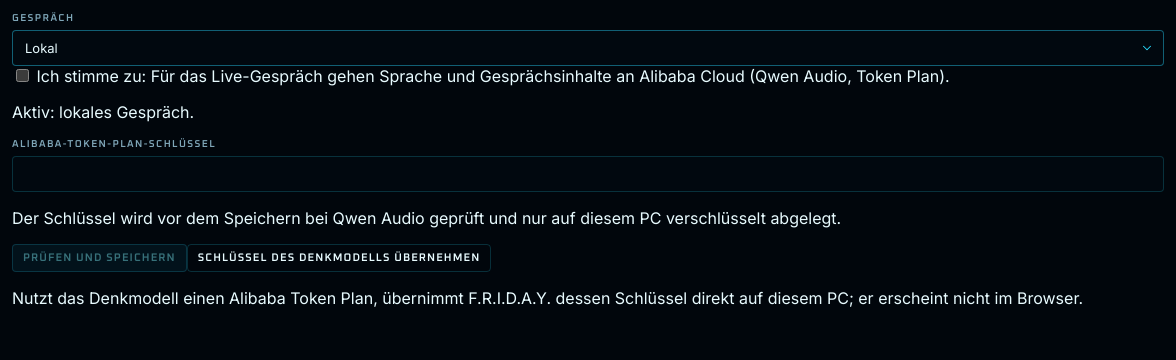
Scenario: zeigt die Meldung des Denkmodell-Schlüssels an
The image size is (1176, 360).
Step 1. Click the button "Schlüssel des Denkmodells übernehmen" → (339, 258), box [187, 244, 491, 272]
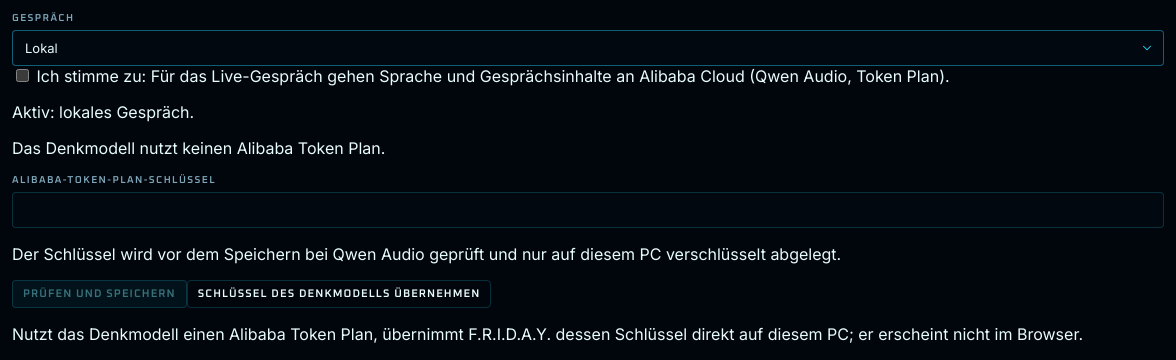
Expected: the message "Das Denkmodell nutzt keinen Alibaba Token Plan." is shown, [12, 138, 385, 158]
